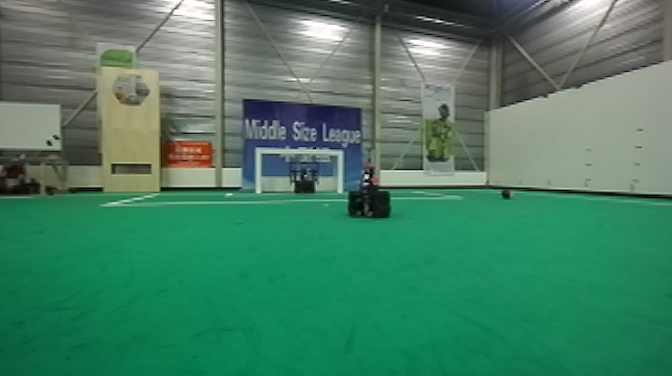ball: (499, 185, 514, 201)
goal: (252, 145, 345, 199)
goalpost: (254, 147, 265, 196), (334, 148, 345, 197)
robot: (343, 145, 393, 221), (287, 160, 321, 197)
